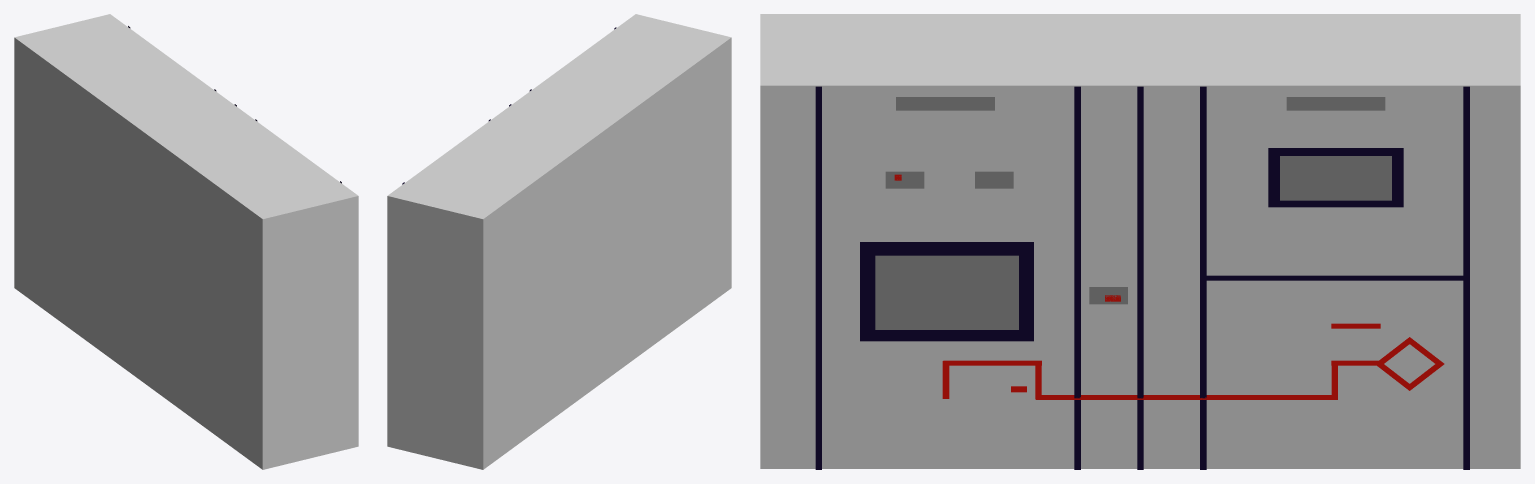
Rendered from elecBox.fbx.
The picture shows the model from 3 angles, left to right: view 1: azimuth 30°, elevation 25°; view 2: azimuth 150°, elevation 25°; view 3: azimuth 270°, elevation 25°; orthographic projection. The views are drawn at different scales.
Visible parts, largest first — view 1: elecBox; view 2: elecBox; view 3: elecBox.
Boxes of the visible parts, x1,y1,x2,y2 form: elecBox: [14, 14, 358, 469]; elecBox: [387, 14, 731, 469]; elecBox: [760, 14, 1520, 469].
Bounding box in the file's own units: 10.29 × 25.06 × 45.03.
